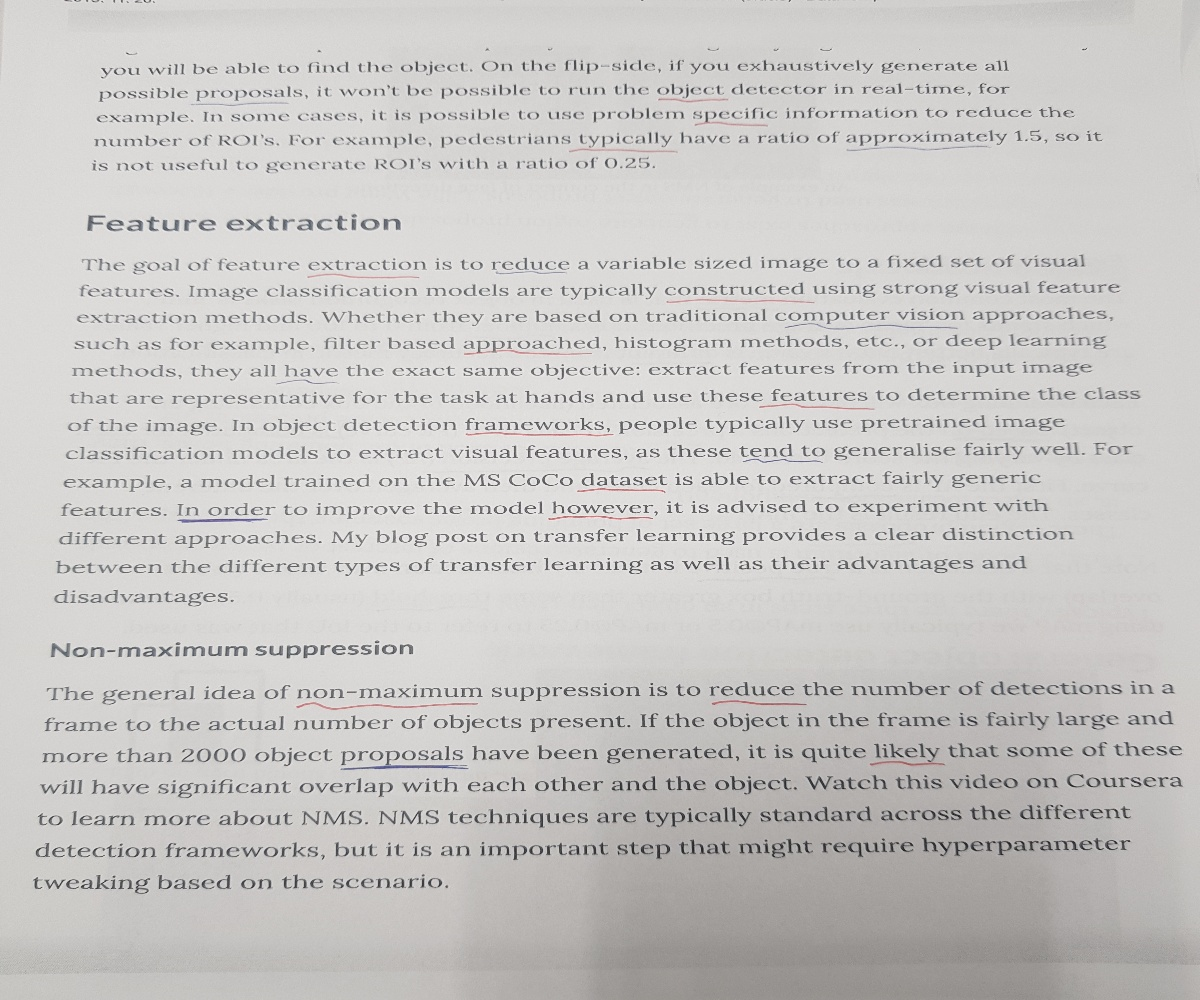underline: (293, 699, 480, 711), (782, 321, 962, 332), (755, 400, 875, 416), (462, 428, 618, 440), (841, 144, 992, 156), (303, 270, 420, 283), (707, 695, 805, 710), (544, 512, 658, 524), (337, 763, 472, 773), (667, 297, 816, 306), (866, 757, 950, 770), (462, 350, 594, 358), (739, 455, 823, 467), (178, 515, 273, 525), (565, 146, 683, 154), (655, 94, 732, 106), (275, 377, 340, 389), (573, 486, 668, 494), (494, 268, 567, 278), (189, 100, 291, 107), (692, 120, 768, 129)
